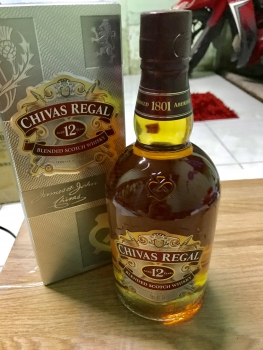Chivas Regal: (97, 2, 232, 333)
